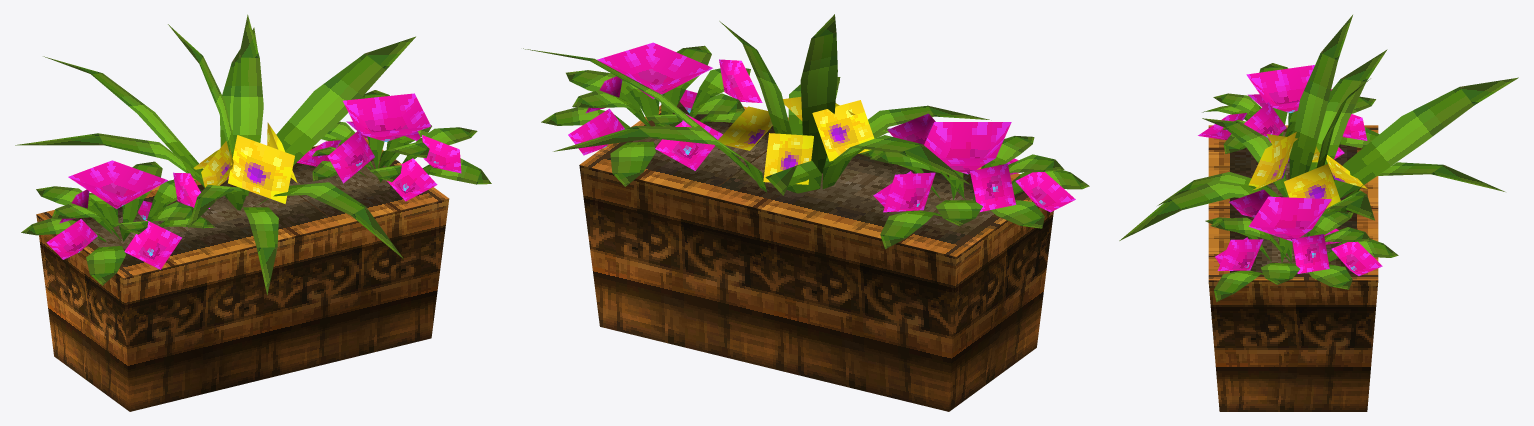
Rendered from FLOWERBOXSMALL.fbx.
The picture shows the model from 3 angles, left to right: view 1: azimuth 30°, elevation 25°; view 2: azimuth 150°, elevation 25°; view 3: azimuth 270°, elevation 25°; orthographic projection. The views are drawn at different scales.
Parts seen in each view (by area): view 1: FLOWERBOXSMALL; view 2: FLOWERBOXSMALL; view 3: FLOWERBOXSMALL.
Boxes of the visible parts, x1,y1,x2,y2 form: FLOWERBOXSMALL: (15,14,491,411); FLOWERBOXSMALL: (523,14,1089,411); FLOWERBOXSMALL: (1119,15,1518,411).
Size of the model in its own units: 11555 by 7951 by 9483.
4 materials, 4 textured.
